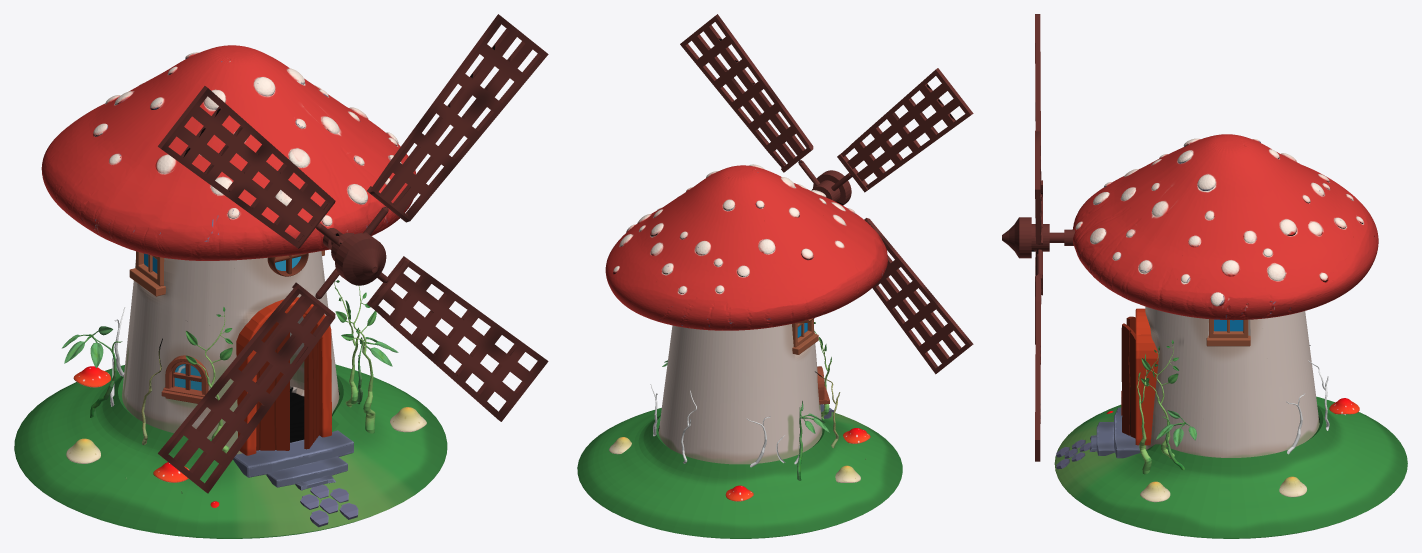
File: 1761293639995-molino.glb
3 renders of one model, left to right at view 1: azimuth 30°, elevation 25°; view 2: azimuth 150°, elevation 25°; view 3: azimuth 270°, elevation 25°, orthographic. The views are drawn at different scales.
Visible parts, largest first — view 1: Sombrero Cabaña Hongo, Aspas, Circle, Cylinder, Circle.006, Circle.004, Escalon, Cube.004, Escalon.001, Cylinder.001, Circle.023, Circle.003 (+4 smaller); view 2: Sombrero Cabaña Hongo, Circle, Cylinder, Aspas, Cylinder.001, Circle.023; view 3: Sombrero Cabaña Hongo, Circle, Cylinder, Aspas, Circle.004, Circle.006, Cylinder.002, Escalon, Circle.002, Circle.003, Circle.001, Escalon.001.
Boxes of the visible parts, x1,y1,x2,y2 form: Sombrero Cabaña Hongo: (41,45,415,260); Aspas: (158,14,548,493); Circle: (14,364,447,538); Cylinder: (122,251,339,454); Circle.006: (256,315,319,450); Circle.004: (236,297,331,455); Escalon: (233,430,353,477); Cube.004: (161,355,208,403); Escalon.001: (266,456,347,487); Cylinder.001: (129,251,165,296); Circle.023: (62,326,122,417); Circle.003: (335,285,376,433); Sombrero Cabaña Hongo: (605,164,887,330); Circle: (577,408,902,538); Cylinder: (658,324,822,464); Aspas: (680,14,973,374); Cylinder.001: (792,318,818,354); Circle.023: (797,401,829,480); Sombrero Cabaña Hongo: (1072,134,1378,320); Circle: (1054,396,1407,538); Cylinder: (1145,306,1319,457); Aspas: (1002,14,1074,461); Circle.004: (1135,308,1158,445); Circle.006: (1121,316,1135,438); Cylinder.002: (1206,319,1250,346); Escalon: (1114,407,1140,458); Circle.002: (1156,410,1196,470); Circle.003: (1137,346,1159,474); Circle.001: (1141,340,1178,458); Escalon.001: (1096,422,1114,455).
Bounding box in the file's own units: 2.07 × 2.51 × 2.3.
17 materials, 17 textured.
